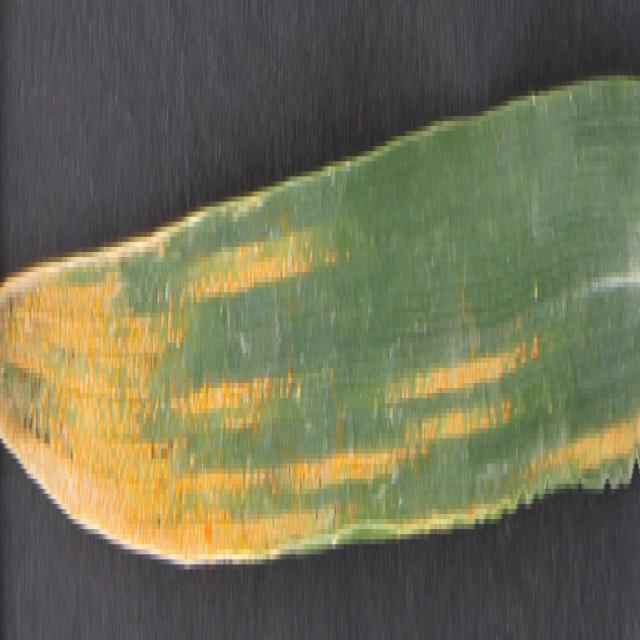leaf rust: (0, 226, 640, 559)
